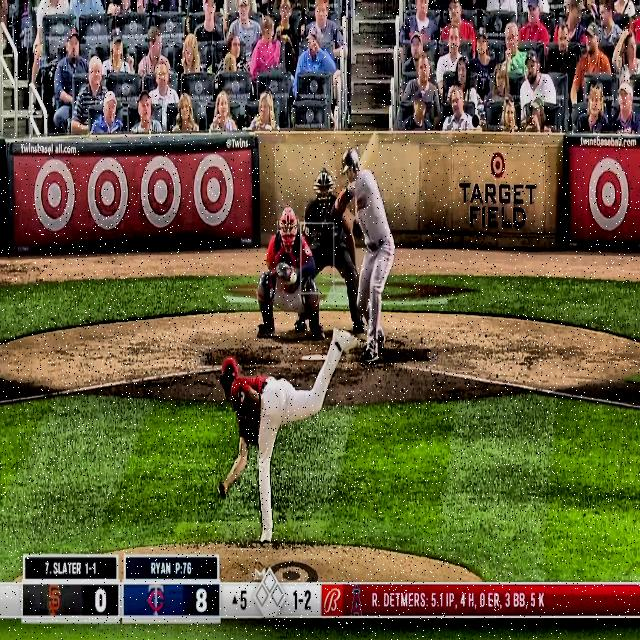baseball: (289, 271, 298, 284)
